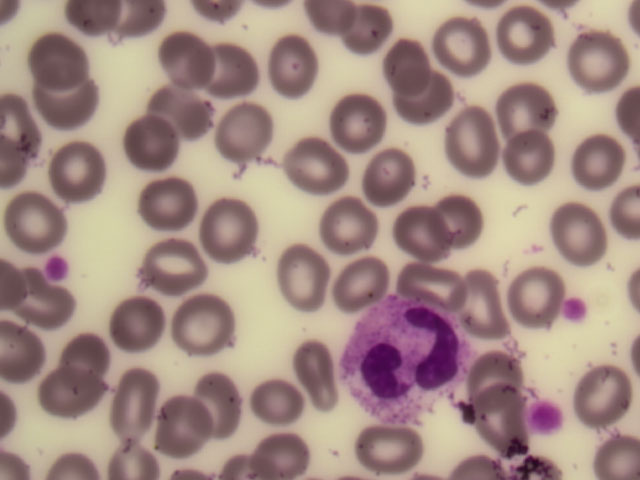Platelets: (530, 394, 568, 437), (45, 253, 69, 284), (565, 298, 587, 326)
RBC: (119, 118, 181, 178), (155, 84, 217, 144), (149, 30, 211, 90), (199, 40, 261, 100), (261, 36, 323, 96), (216, 100, 278, 160), (137, 171, 199, 231), (149, 237, 211, 297), (195, 198, 257, 258), (171, 287, 233, 347), (105, 285, 167, 345), (53, 321, 115, 381), (39, 356, 101, 416), (106, 365, 168, 425), (153, 396, 215, 456), (194, 373, 256, 433), (255, 372, 317, 432), (291, 345, 353, 405), (281, 237, 343, 297), (324, 252, 386, 312), (323, 203, 385, 263), (356, 146, 418, 206), (287, 133, 349, 193), (321, 93, 383, 153), (379, 30, 441, 90), (400, 72, 462, 132), (344, 5, 406, 65), (431, 18, 493, 78), (503, 3, 565, 63), (569, 28, 631, 88), (504, 75, 566, 135), (498, 124, 560, 184), (453, 112, 515, 172), (576, 133, 638, 193), (556, 192, 618, 252), (507, 257, 569, 317), (467, 267, 529, 327), (408, 248, 470, 308), (397, 212, 459, 272), (431, 190, 493, 250), (477, 328, 539, 388), (469, 386, 531, 446), (354, 417, 416, 477), (252, 420, 314, 480), (12, 274, 74, 334), (8, 188, 70, 248), (48, 135, 110, 195), (573, 365, 635, 425), (24, 30, 86, 89), (38, 77, 100, 136)
WBC: (341, 300, 471, 424)
